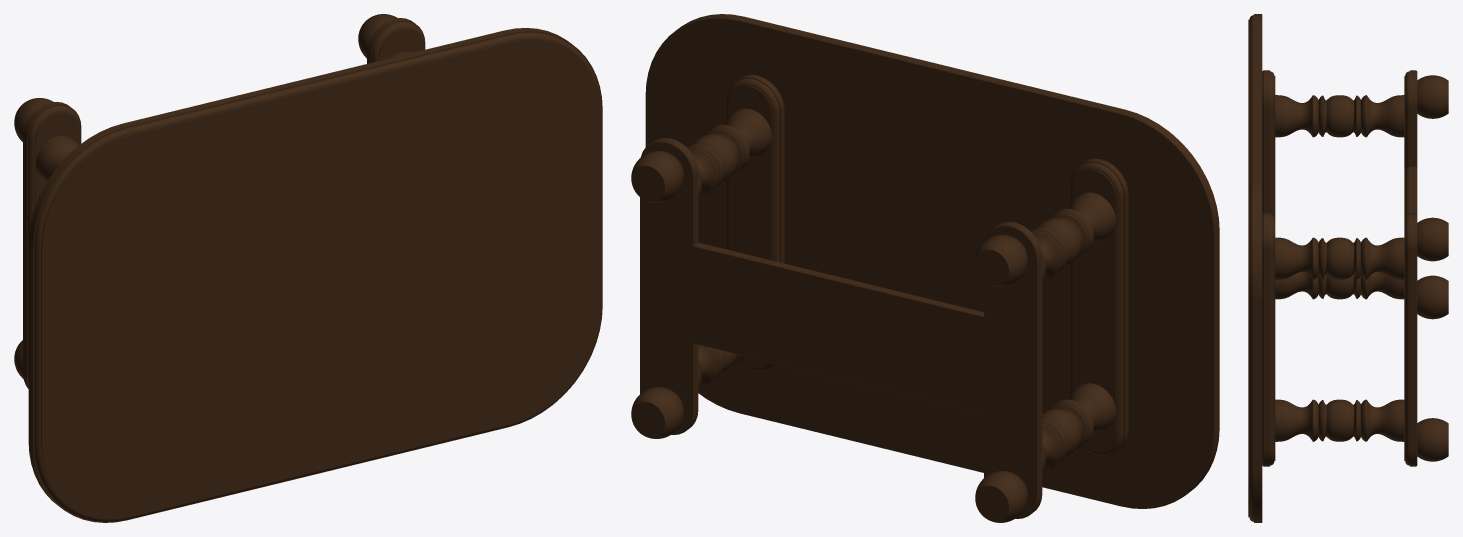
The model's file is table.obj.
3 renders of one model, left to right at view 1: azimuth 30°, elevation 25°; view 2: azimuth 150°, elevation 25°; view 3: azimuth 270°, elevation 25°, orthographic. The views are drawn at different scales.
Parts seen in each view (by area): view 1: mesh_1_Component1-1; view 2: mesh_1_Component1-1; view 3: mesh_1_Component1-1.
Part boxes in pixels (x1=…): mesh_1_Component1-1: x1=14, y1=14, x2=602, y2=522; mesh_1_Component1-1: x1=631, y1=14, x2=1219, y2=522; mesh_1_Component1-1: x1=1248, y1=14, x2=1448, y2=522.
Bounding box in the file's own units: 1.51 × 1 × 0.543.
